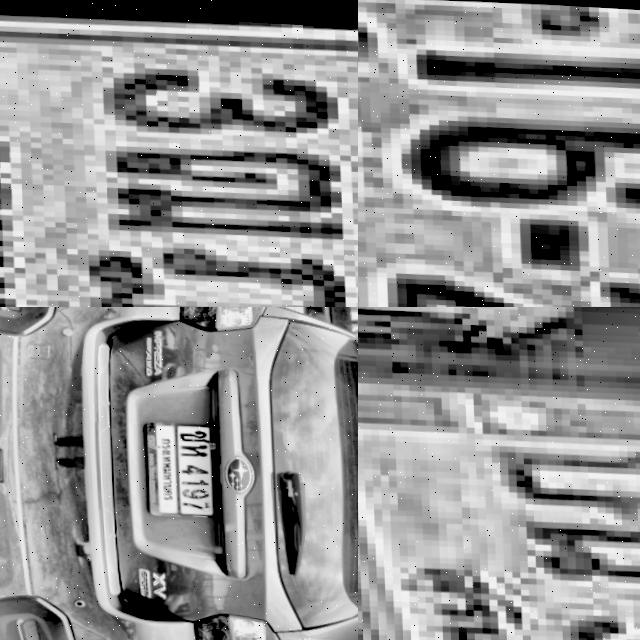license-plate: (0, 0, 358, 307), (358, 326, 640, 640), (358, 0, 640, 307), (142, 418, 217, 514)
